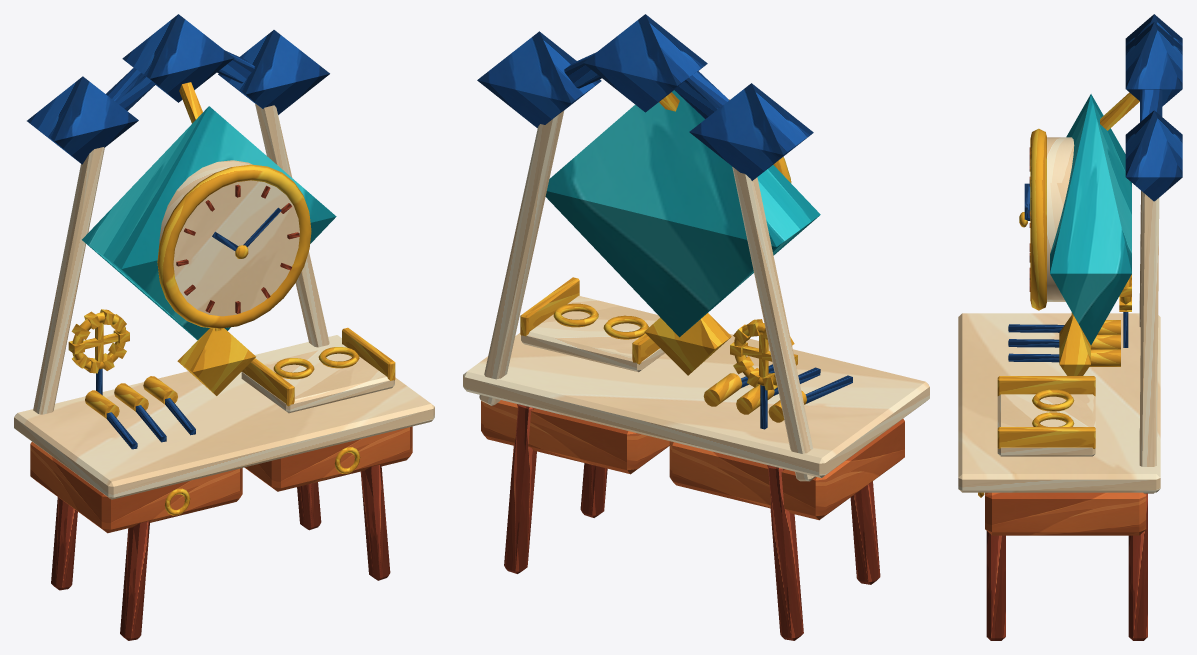
File: 01_原神参考_赛璐璐.glb
3 renders of one model, left to right at view 1: azimuth 30°, elevation 25°; view 2: azimuth 150°, elevation 25°; view 3: azimuth 270°, elevation 25°, orthographic. The views are drawn at different scales.
Parts seen in each view (by area): view 1: clock_station; view 2: clock_station; view 3: clock_station.
Part boxes in pixels (x1=…): clock_station: x1=14, y1=14, x2=434, y2=640; clock_station: x1=463, y1=14, x2=929, y2=640; clock_station: x1=958, y1=14, x2=1182, y2=640.
Size of the model in its own units: 1.23 by 1.94 by 0.71.
2 materials, 2 textured.
